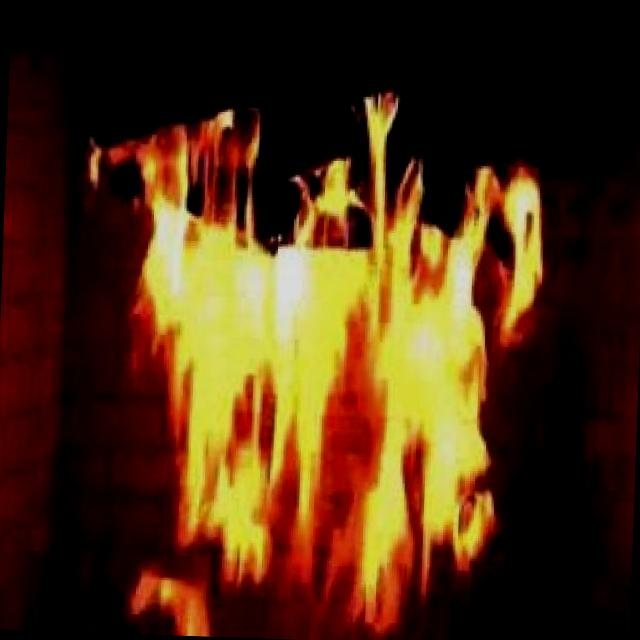fire: (77, 81, 568, 640)
